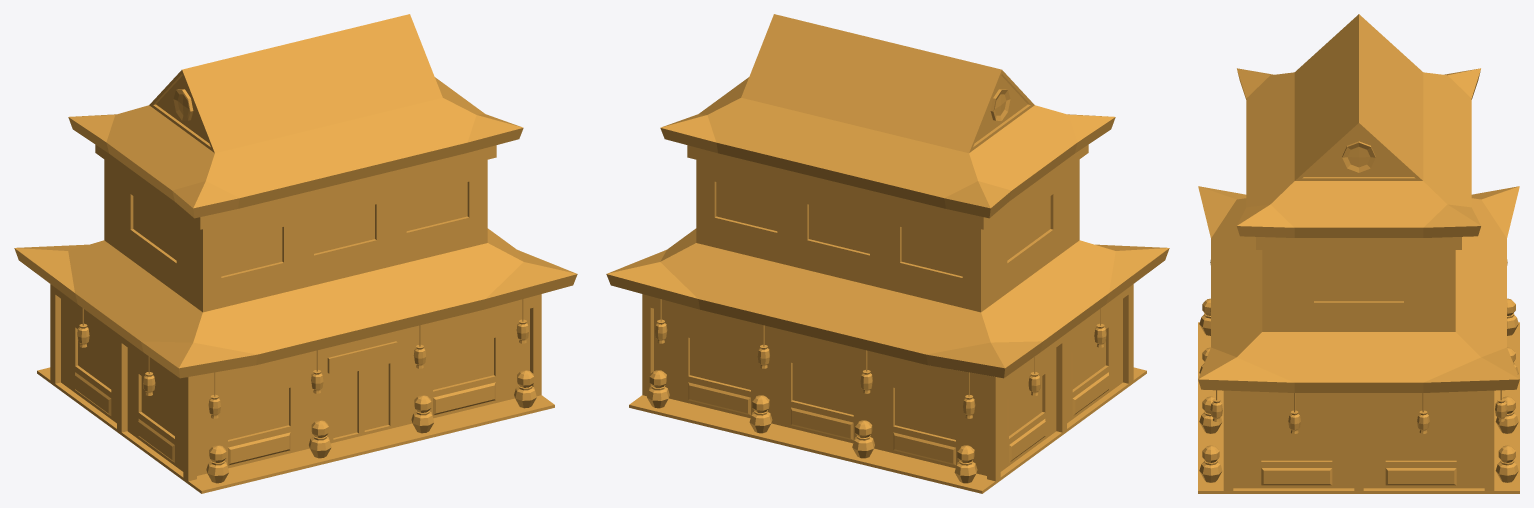
File: building-restuarant-china.glb
The picture shows the model from 3 angles, left to right: view 1: azimuth 30°, elevation 25°; view 2: azimuth 150°, elevation 25°; view 3: azimuth 270°, elevation 25°; orthographic projection. The views are drawn at different scales.
Parts seen in each view (by area): view 1: building-restuarant-china; view 2: building-restuarant-china; view 3: building-restuarant-china.
Part boxes in pixels (x1,y1,x2,y2): building-restuarant-china: [14, 14, 577, 493]; building-restuarant-china: [606, 14, 1169, 493]; building-restuarant-china: [1198, 14, 1519, 493].
Bounding box in the file's own units: 14 × 11.7 × 10.
